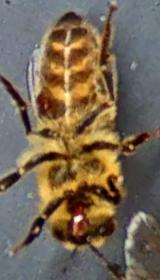varroa_mite: (26, 83, 58, 121)
